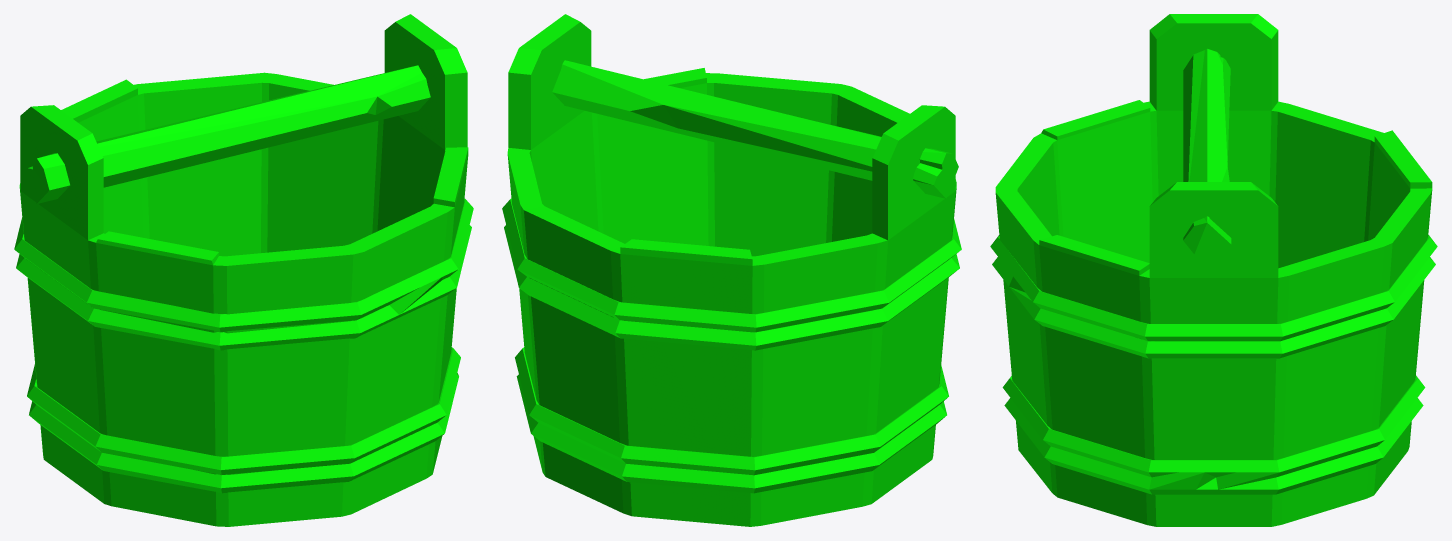
The model's file is SM_Bucket_Wooden_C_Fantasy.fbx.
3 views of the same model, side by side, from view 1: azimuth 30°, elevation 25°; view 2: azimuth 150°, elevation 25°; view 3: azimuth 270°, elevation 25° (orthographic). The views are drawn at different scales.
Visible parts, largest first — view 1: bucket-wooden-c-fantasy; view 2: bucket-wooden-c-fantasy; view 3: bucket-wooden-c-fantasy.
Boxes of the visible parts, <box> form: bucket-wooden-c-fantasy: <box>14,14,473,526</box>; bucket-wooden-c-fantasy: <box>502,14,961,526</box>; bucket-wooden-c-fantasy: <box>990,14,1437,526</box>.
Bounding box in the file's own units: 0.4205 × 0.352 × 0.4129.
